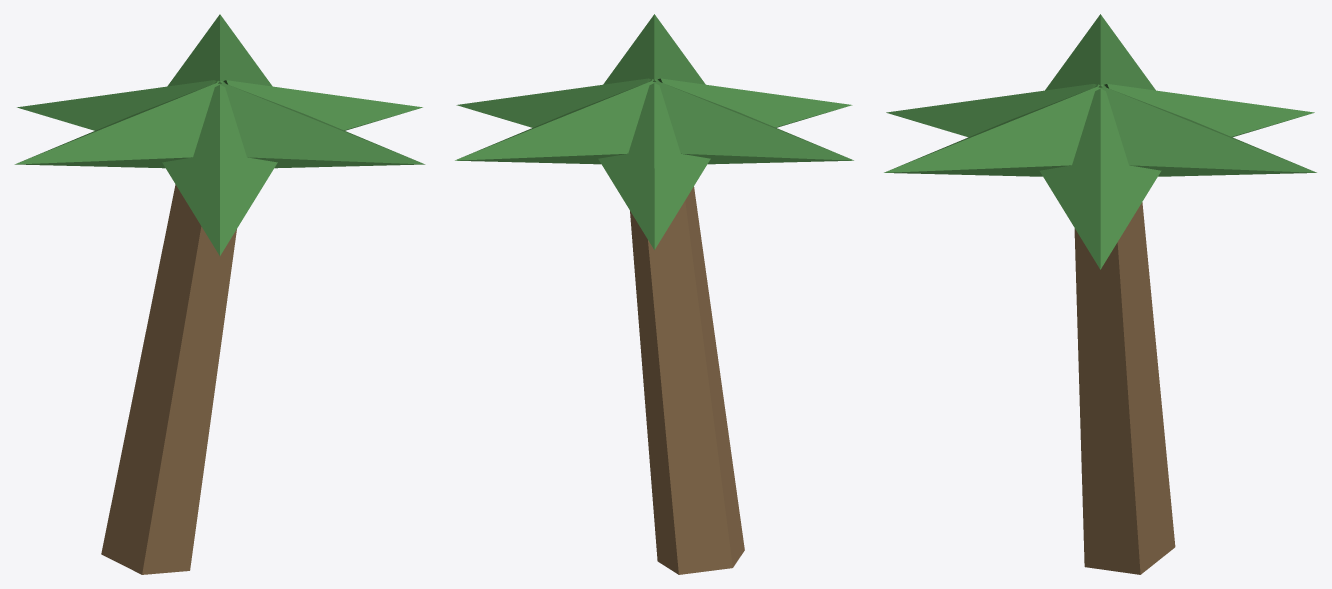
File: palm.glb
3 views of the same model, side by side, from view 1: azimuth 30°, elevation 25°; view 2: azimuth 150°, elevation 25°; view 3: azimuth 270°, elevation 25° (orthographic). The views are drawn at different scales.
Parts seen in each view (by area): view 1: jungle-palm; view 2: jungle-palm; view 3: jungle-palm.
Boxes of the visible parts, x1,y1,x2,y2 form: jungle-palm: (14,14,425,574); jungle-palm: (455,14,853,574); jungle-palm: (884,14,1316,574).
Size of the model in its own units: 0.9938 by 1.1 by 0.8649.
